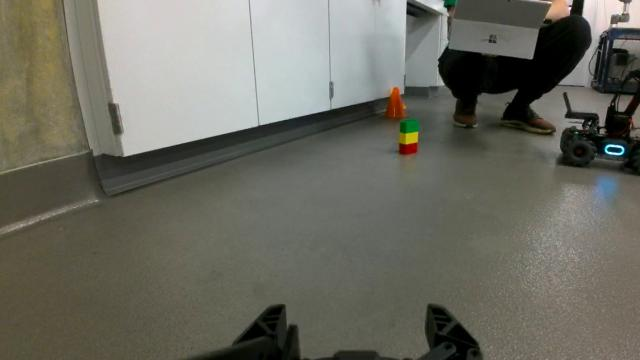lego: (393, 112, 424, 160)
